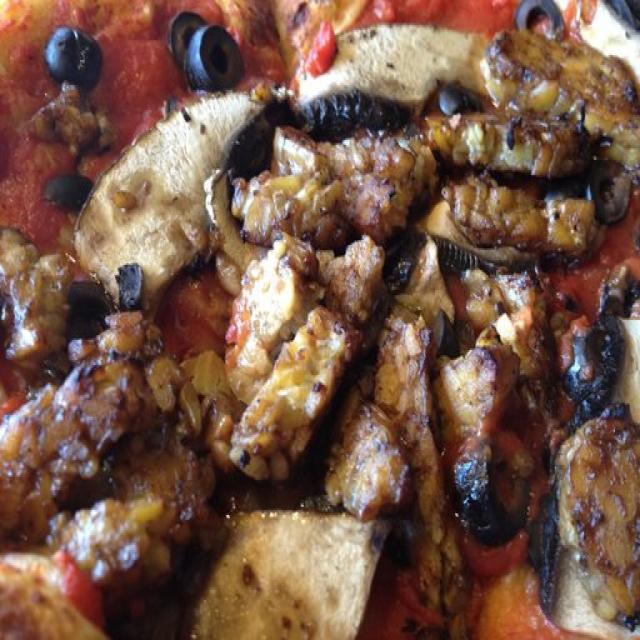Chicken: (244, 179, 354, 466), (368, 299, 453, 578)
Eggplant: (106, 95, 230, 299), (208, 510, 374, 640), (495, 36, 627, 152), (561, 421, 638, 607), (330, 26, 460, 84), (448, 368, 500, 500)
Olives: (170, 10, 237, 91), (43, 26, 100, 90), (520, 0, 559, 36), (47, 175, 92, 205), (71, 284, 99, 328), (117, 261, 140, 309), (117, 258, 139, 304)
